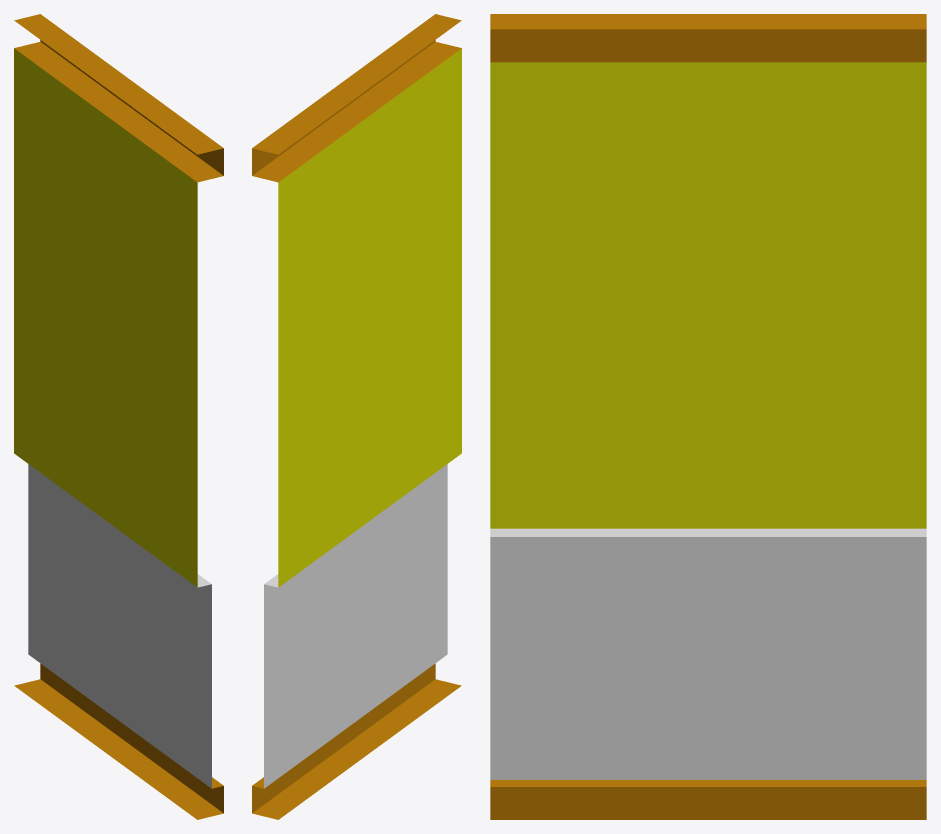
File: Mesh_Half_Wall_a01.fbx
3 views of the same model, side by side, from view 1: azimuth 30°, elevation 25°; view 2: azimuth 150°, elevation 25°; view 3: azimuth 270°, elevation 25° (orthographic). The views are drawn at different scales.
Visible parts, largest first — view 1: Mesh_Half_Wall_a01; view 2: Mesh_Half_Wall_a01; view 3: Mesh_Half_Wall_a01.
Boxes of the visible parts, x1,y1,x2,y2 form: Mesh_Half_Wall_a01: (14, 14, 223, 819); Mesh_Half_Wall_a01: (252, 14, 461, 819); Mesh_Half_Wall_a01: (490, 14, 926, 819).
Bounding box in the file's own units: 1 × 24 × 12.
